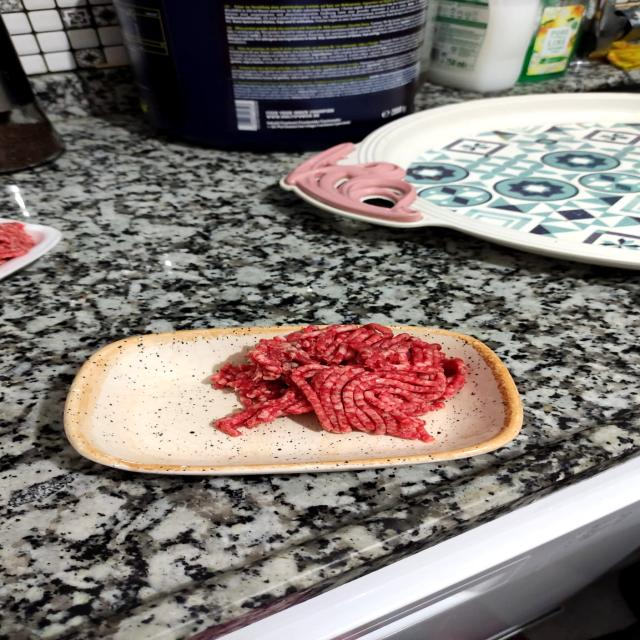ground meat: (124, 312, 501, 461)
